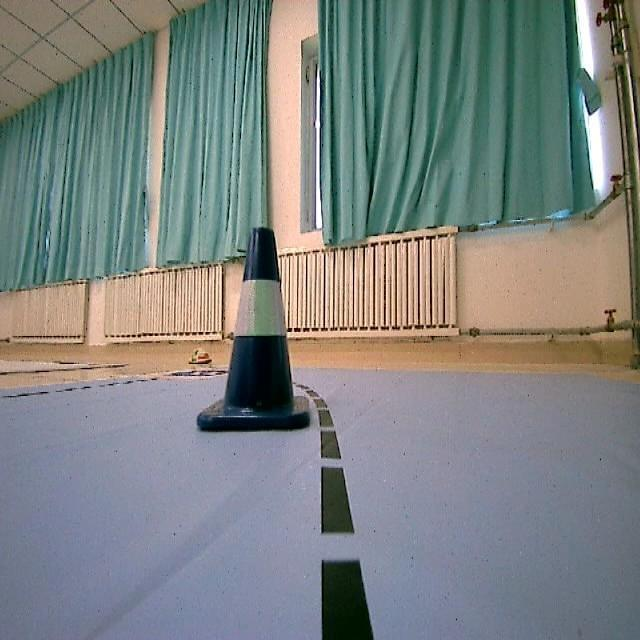obstacle: (195, 224, 316, 437)
